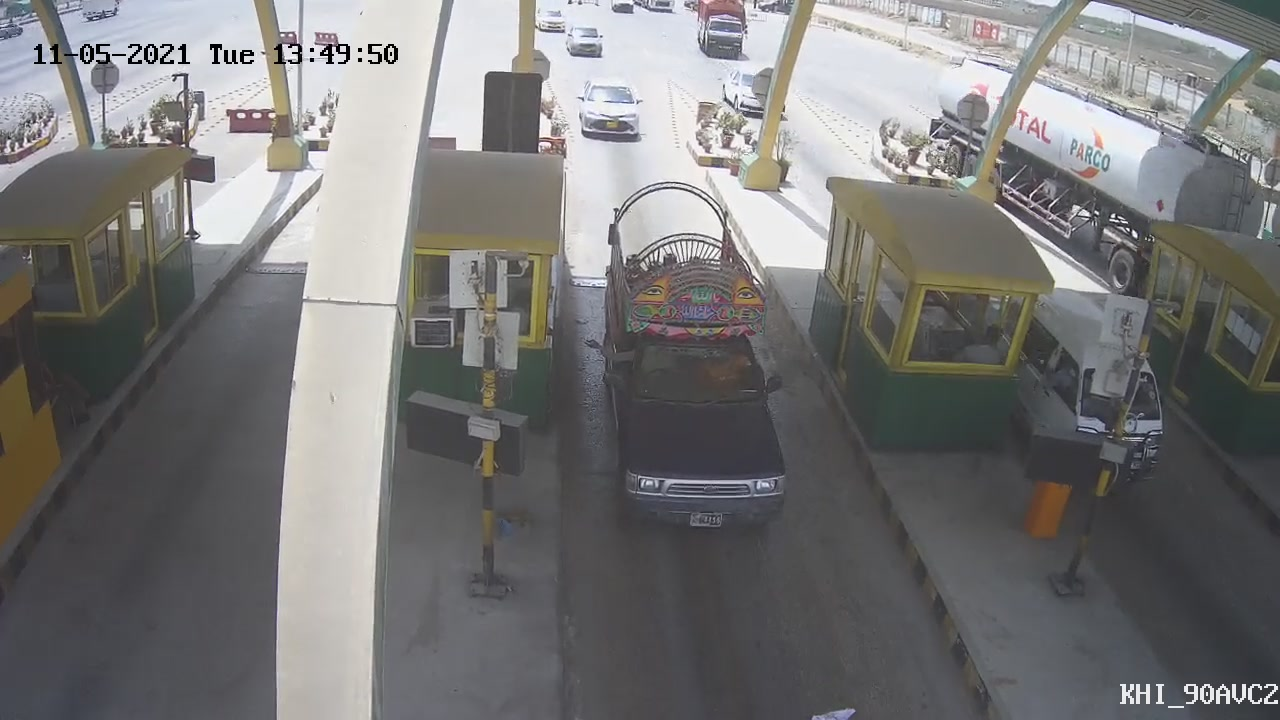F1: (589, 177, 798, 545)
